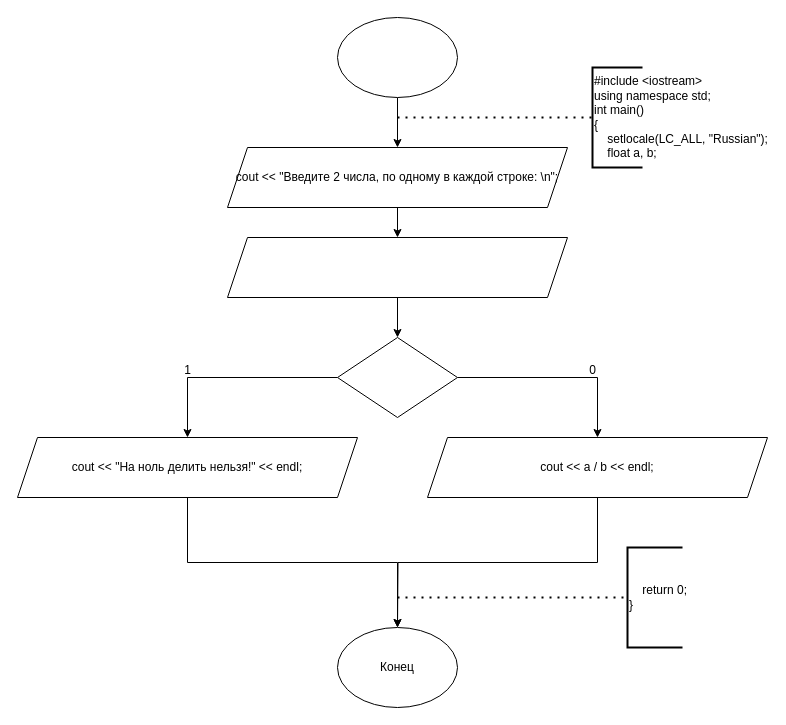
Image size: 786x725. Some labels were removed from this diagram. Here are the shapes that lost their labels. From the top down, the box of each, then its label:
(336, 16, 458, 98): Начало
(226, 236, 568, 298): cin >> a >> b;
(336, 336, 458, 418): if (b == 0)
